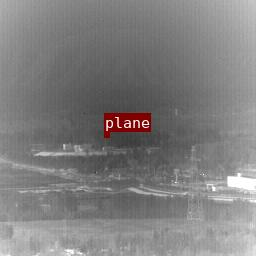plane: (104, 132, 109, 136)
